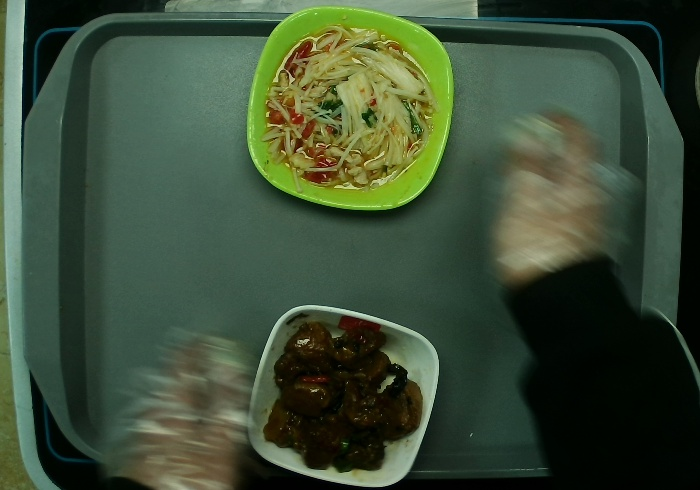SHKJ-Bai_Se_Xiao_Fang_Die: (245, 305, 442, 490)
SHKJ-Lv_Se_Cai_Die: (248, 6, 455, 211)
